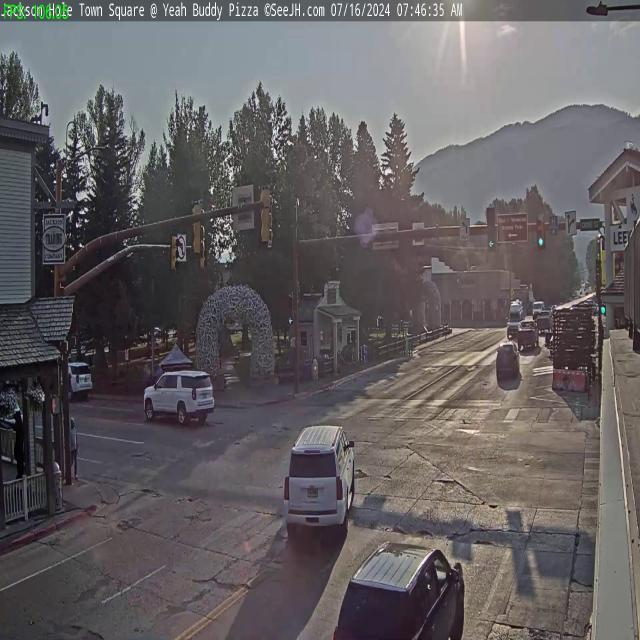motorcycle: (68, 418, 78, 482)
person: (516, 320, 540, 348), (536, 311, 554, 332)
sedan: (330, 538, 467, 640), (282, 422, 358, 533), (142, 366, 215, 427), (60, 360, 94, 403), (495, 342, 520, 379)
suv: (258, 184, 272, 247), (190, 200, 204, 254), (486, 206, 496, 252), (169, 234, 179, 273), (536, 214, 546, 250), (200, 238, 208, 270)
truck: (507, 302, 523, 338), (532, 300, 544, 318)
